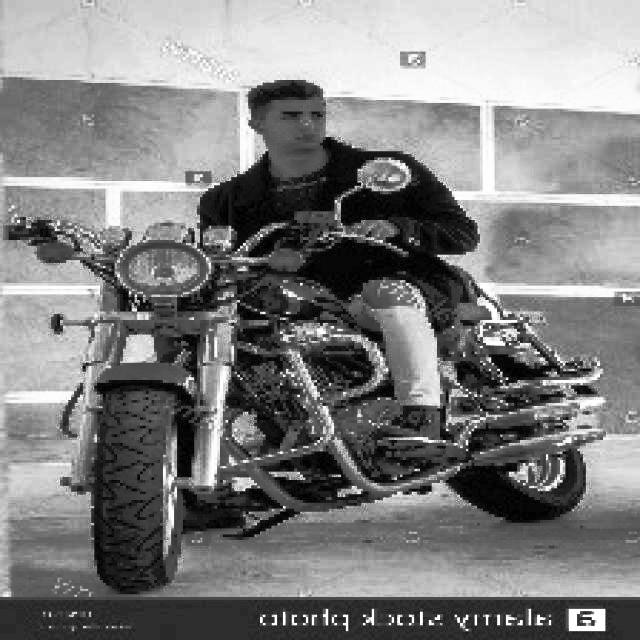Bike: (25, 203, 609, 591)
